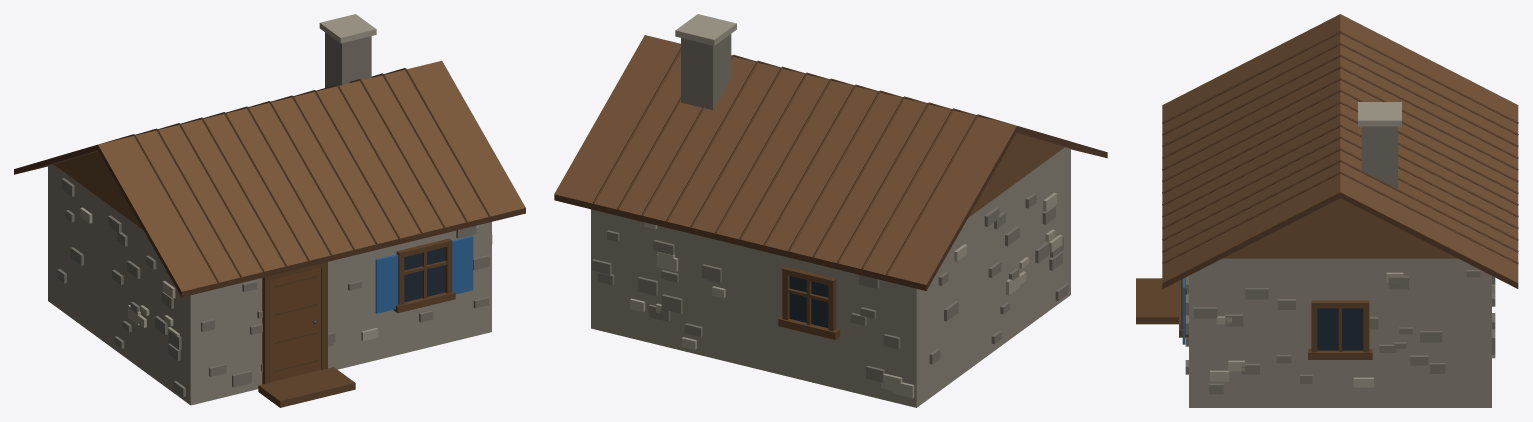
Rendered from House_Stone.obj.
The picture shows the model from 3 angles, left to right: view 1: azimuth 30°, elevation 25°; view 2: azimuth 150°, elevation 25°; view 3: azimuth 270°, elevation 25°; orthographic projection. The views are drawn at different scales.
Parts seen in each view (by area): view 1: House_Stone; view 2: House_Stone; view 3: House_Stone.
Part boxes in pixels (x1,y1,x2,y2): House_Stone: (14,14,525,407); House_Stone: (554,14,1107,407); House_Stone: (1136,14,1518,407).
Bounding box in the file's own units: 6.4 × 4.5 × 5.81.
